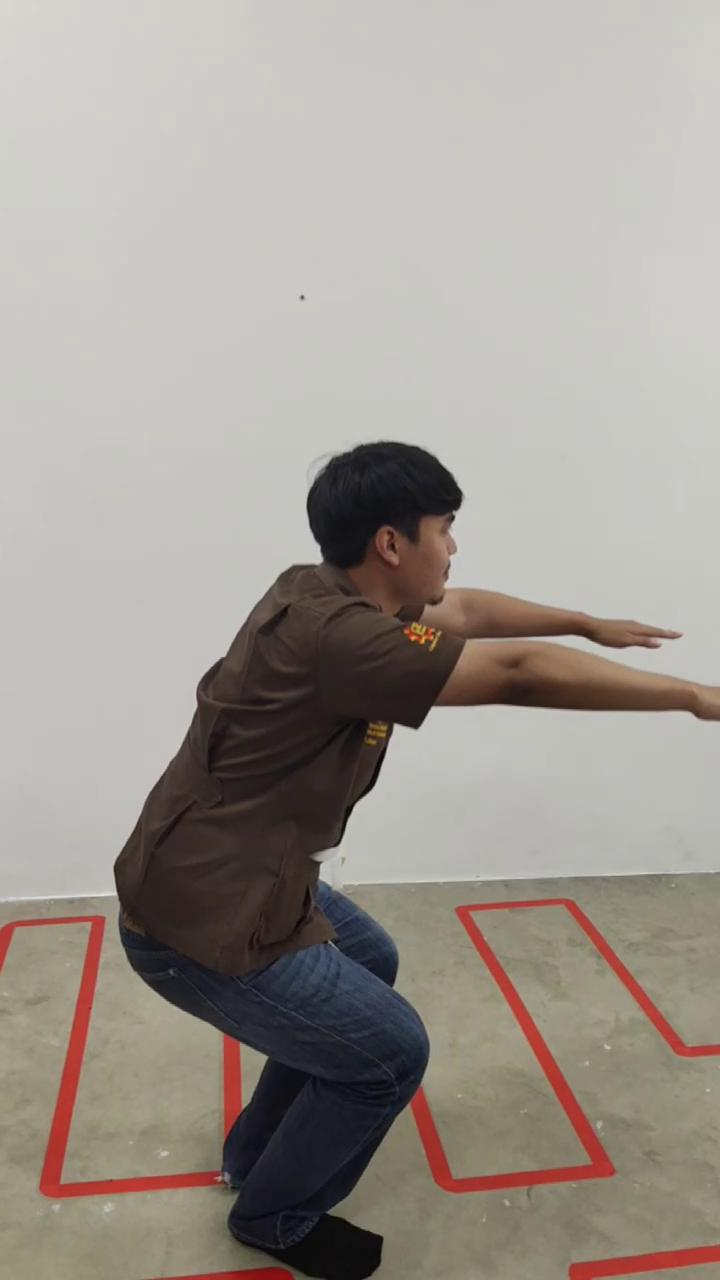squat down: (115, 442, 718, 1280)
